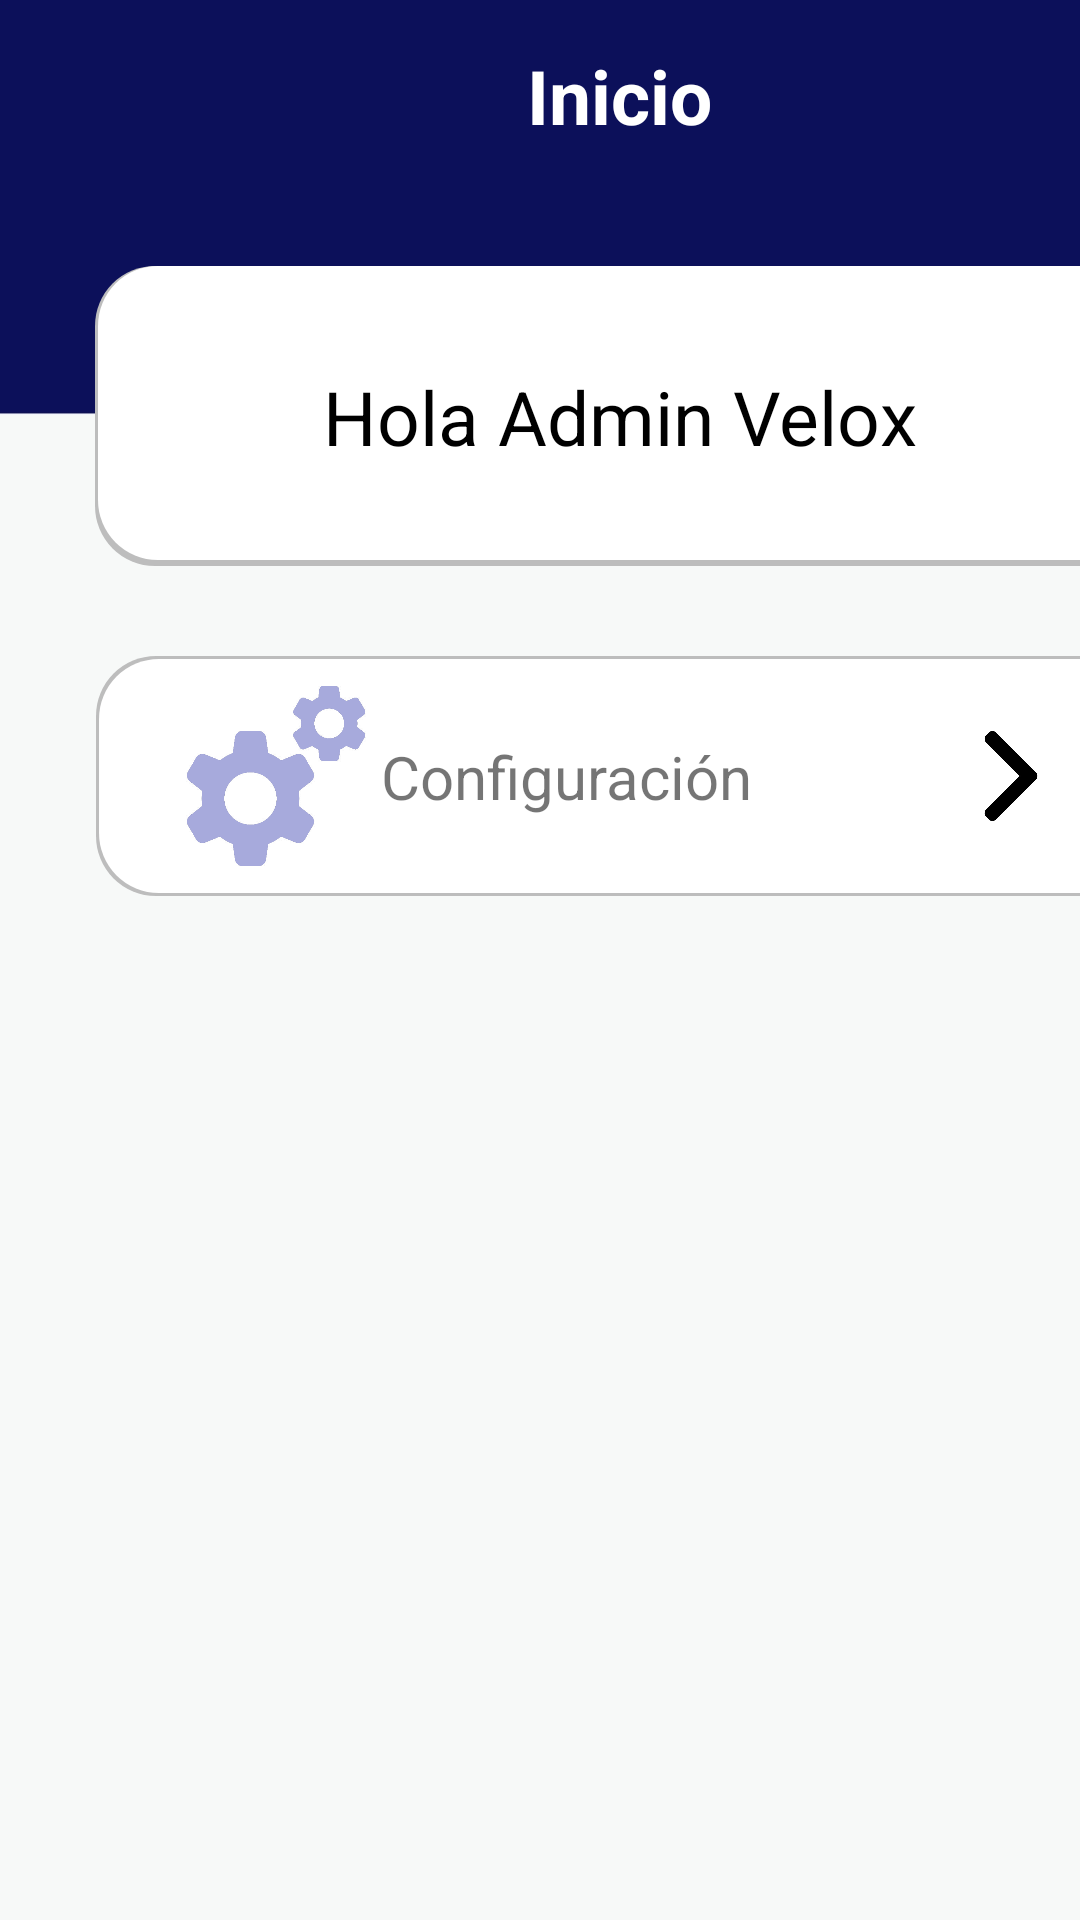

Named icons in this screenshot (1080px x 1920px) and their centers, (x=x, y=y):
configuracion: (x=276, y=776)
next: (x=1011, y=776)
